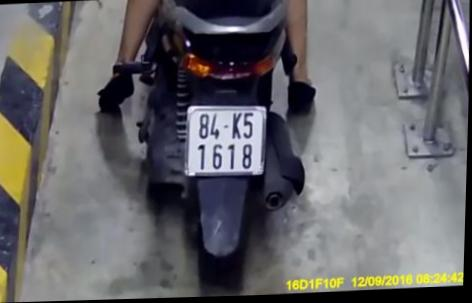LP: (182, 101, 270, 180)
